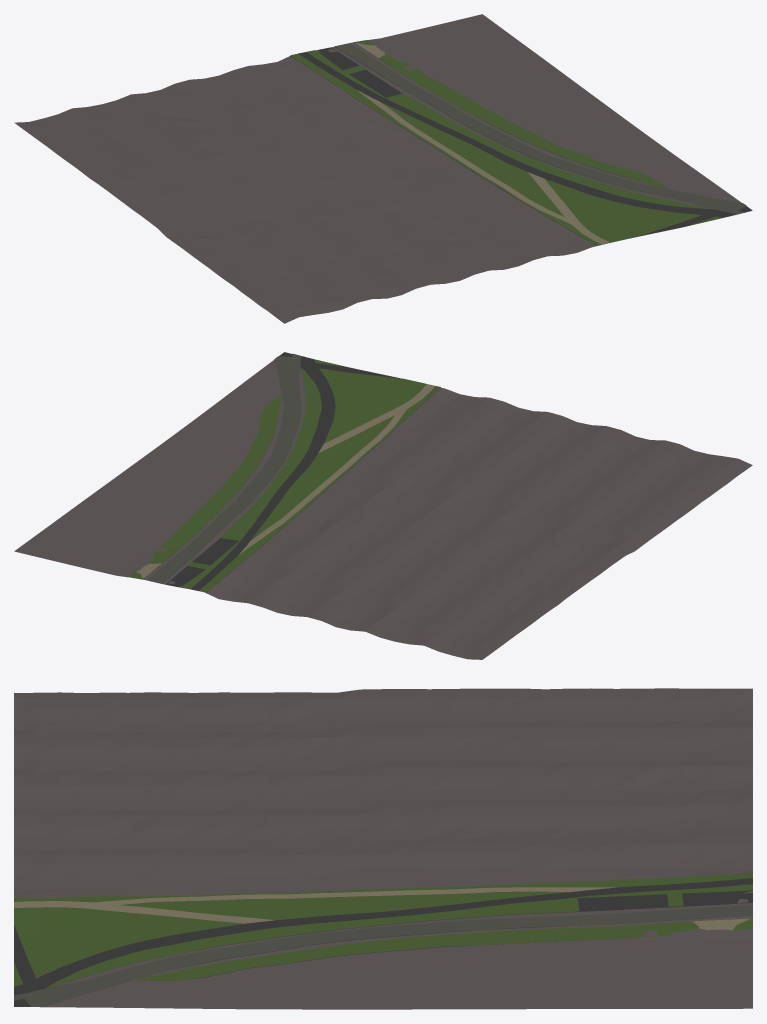
The picture shows the model from 3 angles, top to bottom: view 1: azimuth 30°, elevation 25°; view 2: azimuth 150°, elevation 25°; view 3: azimuth 270°, elevation 25°; orthographic projection. The views are drawn at different scales.
Parts seen in each view (by area): view 1: c_m05_m05; view 2: c_m05_m05; view 3: c_m05_m05.
Part boxes in pixels (x1,y1,x2,y2): c_m05_m05: (14,14,752,323); c_m05_m05: (14,352,752,659); c_m05_m05: (14,688,752,1009).
Bounding box in the file's own units: 128 × 1.73 × 128.
